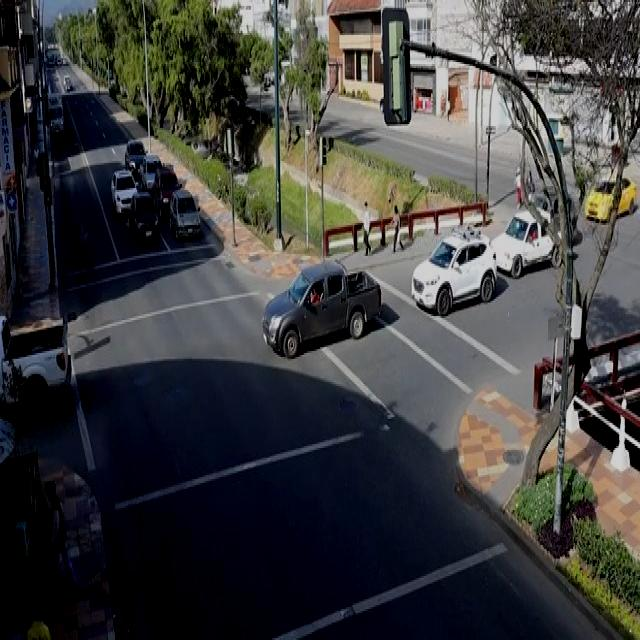CMT: (259, 262, 382, 352)
